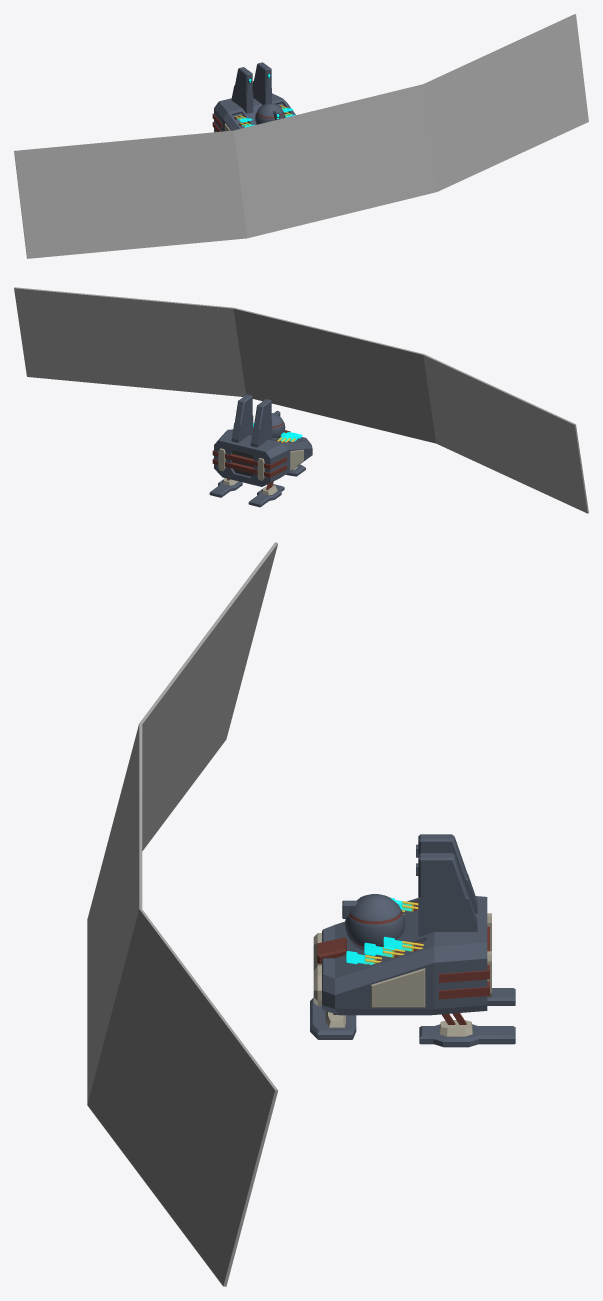
File: DronePhalanx.fbx
3 views of the same model, one above another, from view 1: azimuth 30°, elevation 25°; view 2: azimuth 150°, elevation 25°; view 3: azimuth 270°, elevation 25° (orthographic). The views are drawn at different scales.
Visible parts, largest first — view 1: pCube310, pCube281, pCube285, pCube305, pasted__pSphere15; view 2: pCube310, pCube281, pCube305, pCube285, pCube288, pCube306, pCube307, pCube284; view 3: pCube310, pCube281, pCube305, pasted__pSphere15, pCube284, pCube282, pCube285.
Part boxes in pixels (x1,y1,x2,y2): pCube310: (14, 14, 588, 258); pCube281: (214, 93, 295, 132); pCube285: (231, 67, 253, 113); pCube305: (252, 62, 271, 104); pasted__pSphere15: (255, 103, 284, 124); pCube310: (14, 287, 588, 513); pCube281: (214, 429, 312, 486); pCube305: (231, 394, 253, 442); pCube285: (250, 399, 271, 447); pCube288: (248, 484, 284, 507); pCube306: (212, 458, 286, 477); pCube307: (212, 450, 286, 469); pCube284: (209, 478, 242, 497); pCube310: (87, 542, 278, 1286); pCube281: (322, 896, 487, 1015); pCube305: (418, 853, 477, 936); pasted__pSphere15: (344, 894, 405, 950); pCube284: (419, 1020, 515, 1047); pCube282: (310, 998, 356, 1039); pCube285: (418, 834, 477, 913).
Bounding box in the file's own units: 144 × 24.91 × 47.47.
